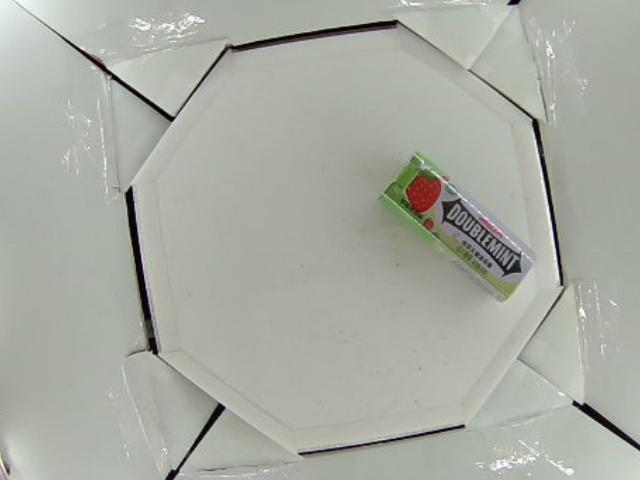Bottle: (381, 152, 540, 301)
